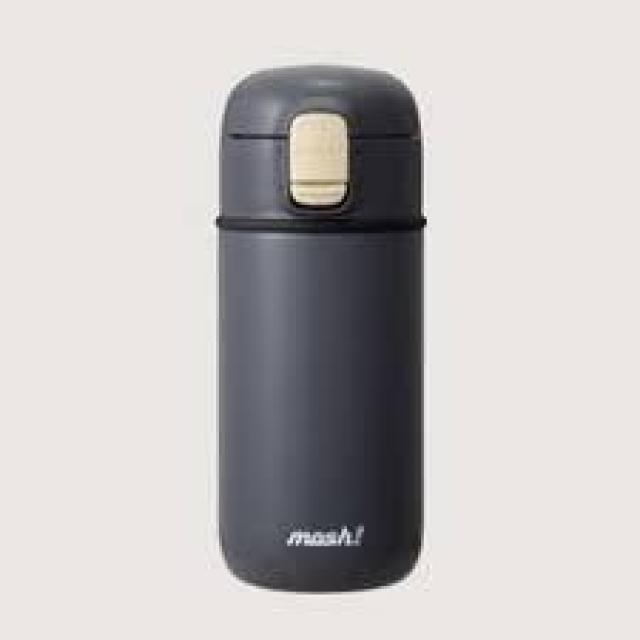bottle: (216, 63, 424, 603)
